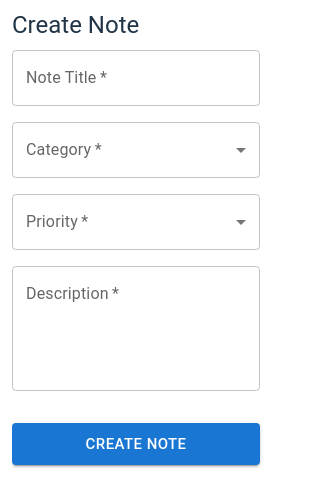
Test case: NoteForm › displays all priority options
This screenshot has width=332, height=485.
Press the mouse on the dropdown next to "Priority" at (136, 222), box [12,194,260,250]
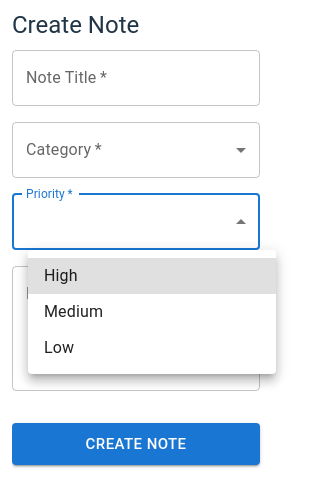
Now the option "High" is shown, box [28,258,276,294]
Now the option "Medium" is shown, box [44,302,103,321]
Now the option "Low" is shown, box [44,338,74,357]
